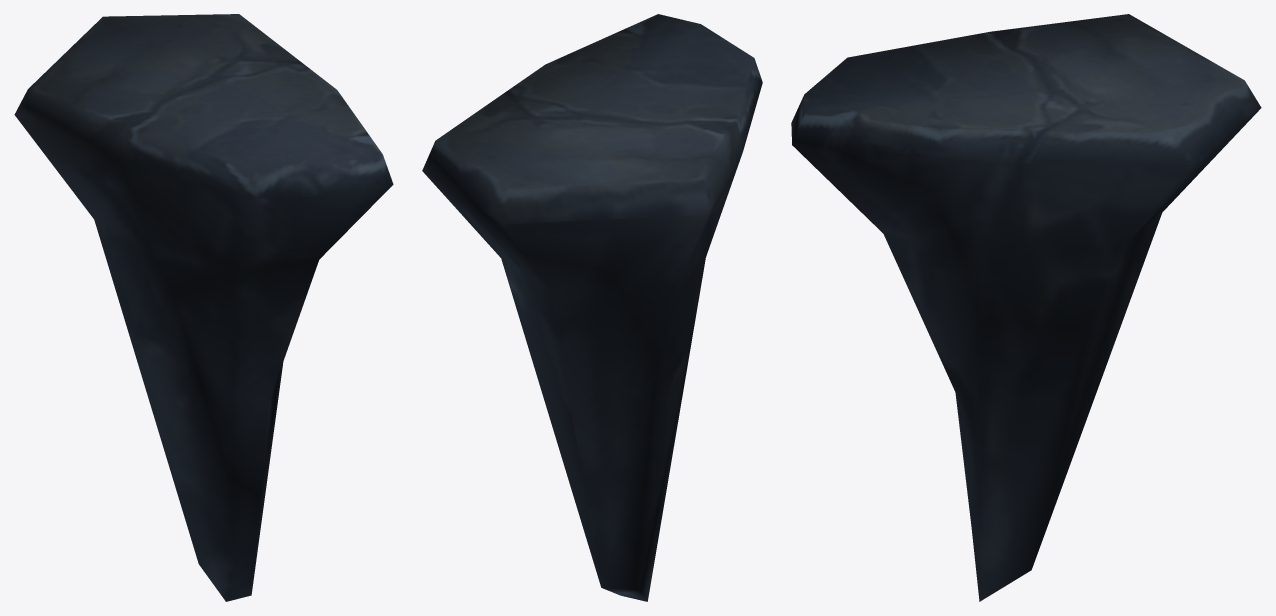
Rendered from sn_jiguan_stone_004.FBX.
3 renders of one model, left to right at view 1: azimuth 30°, elevation 25°; view 2: azimuth 150°, elevation 25°; view 3: azimuth 270°, elevation 25°, orthographic. The views are drawn at different scales.
Visible parts, largest first — view 1: sn_jiguan_stone_004; view 2: sn_jiguan_stone_004; view 3: sn_jiguan_stone_004.
Boxes of the visible parts, x1,y1,x2,y2 form: sn_jiguan_stone_004: (14, 14, 393, 601); sn_jiguan_stone_004: (422, 14, 762, 601); sn_jiguan_stone_004: (791, 14, 1261, 601).
Bounding box in the file's own units: 209 × 390 × 325.
